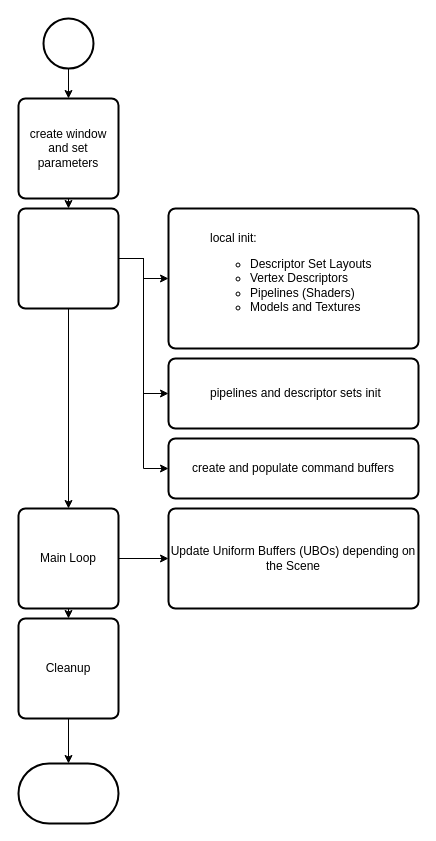
This 436x841 diagram has some shape labels left out. The shapes that lost their labels are listed below. From the top down, each one's box as (x1, y1, x2, y2) in pixels, then its label:
(42, 17, 94, 69): start
(17, 207, 119, 309): initialize vulkan
(17, 762, 119, 824): end
